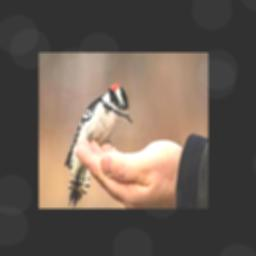Woodpecker: (64, 82, 132, 208)
